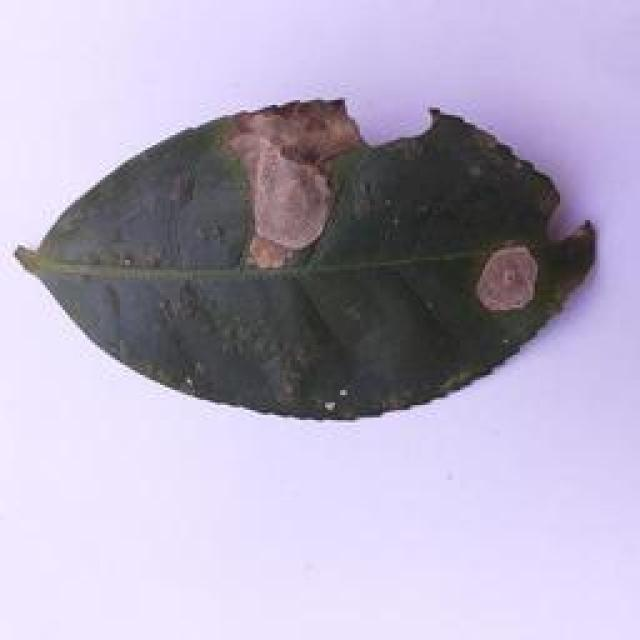Gray Blight: (16, 102, 599, 424)
